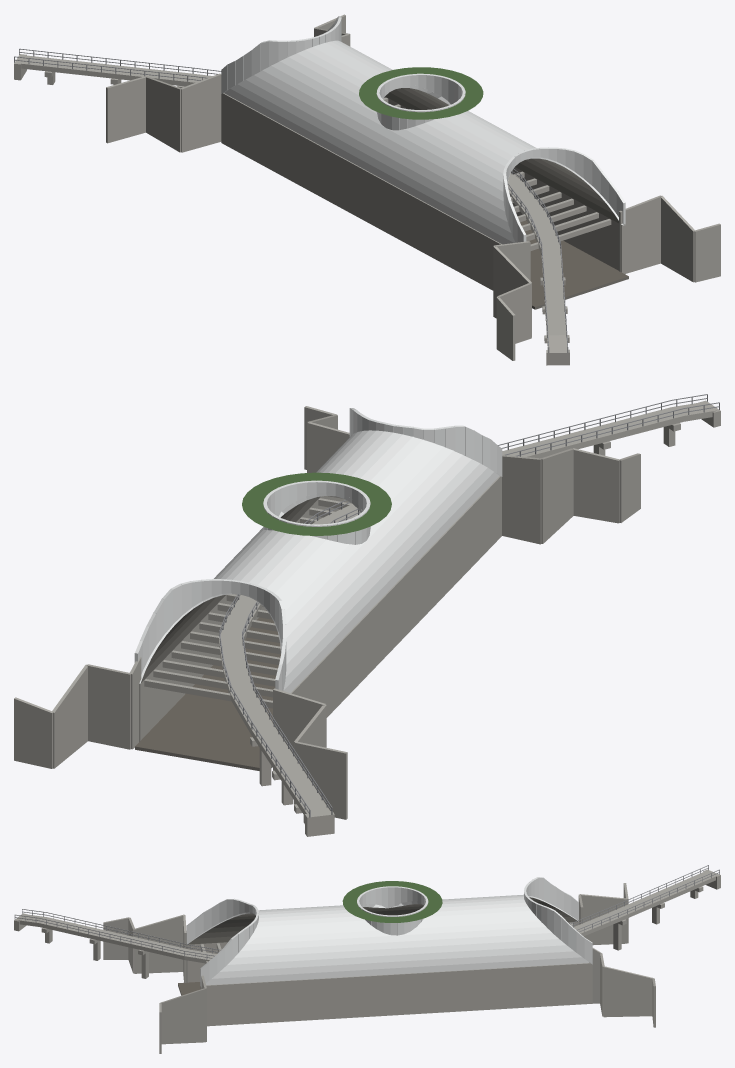
File: br_h30_whitemud_arch.gltf
3 views of the same model, one above another, from view 1: azimuth 30°, elevation 25°; view 2: azimuth 150°, elevation 25°; view 3: azimuth 270°, elevation 25° (orthographic). The views are drawn at different scales.
Visible parts, largest first — view 1: br_h30_whitemud_arch; view 2: br_h30_whitemud_arch; view 3: br_h30_whitemud_arch.
Boxes of the visible parts, x1,y1,x2,y2 form: br_h30_whitemud_arch: (14,14,720,365); br_h30_whitemud_arch: (14,394,720,836); br_h30_whitemud_arch: (14,865,720,1053).
Size of the model in its own units: 71.03 by 21.4 by 148.
